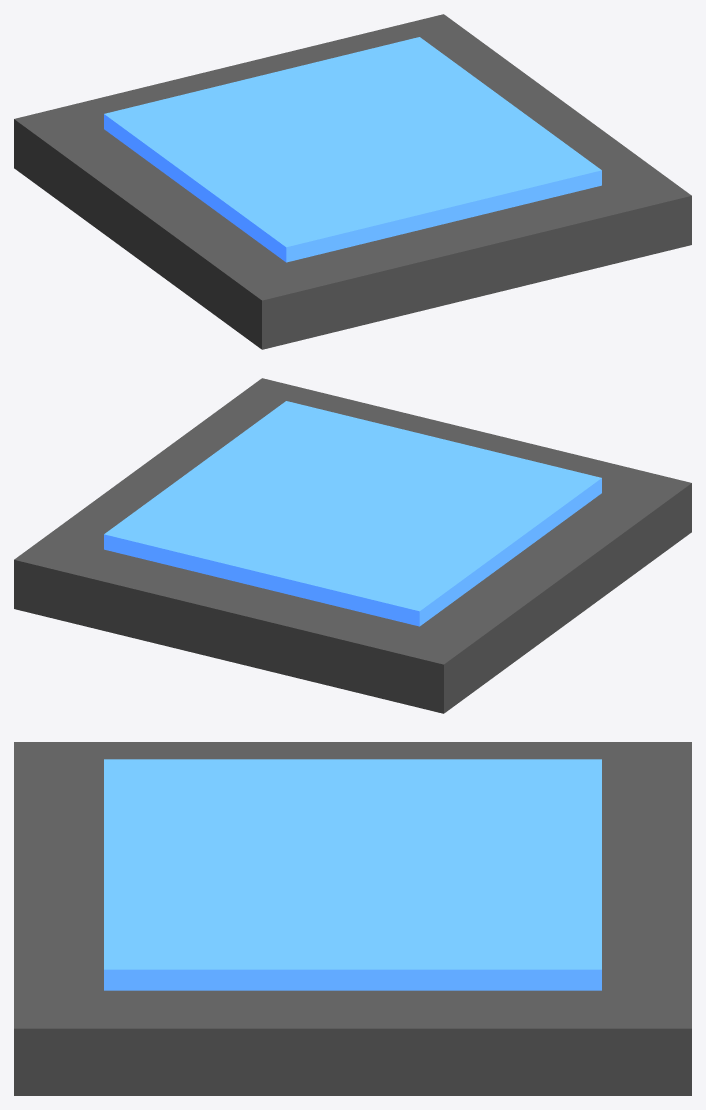
Rendered from plita blue.fbx.
3 views of the same model, one above another, from view 1: azimuth 30°, elevation 25°; view 2: azimuth 150°, elevation 25°; view 3: azimuth 270°, elevation 25° (orthographic). The views are drawn at different scales.
Visible parts, largest first — view 1: Cube.011; view 2: Cube.011; view 3: Cube.011.
Boxes of the visible parts, x1,y1,x2,y2 form: Cube.011: [14, 14, 691, 349]; Cube.011: [14, 378, 691, 713]; Cube.011: [14, 742, 691, 1095].
Bounding box in the file's own units: 341 × 48.96 × 341.
